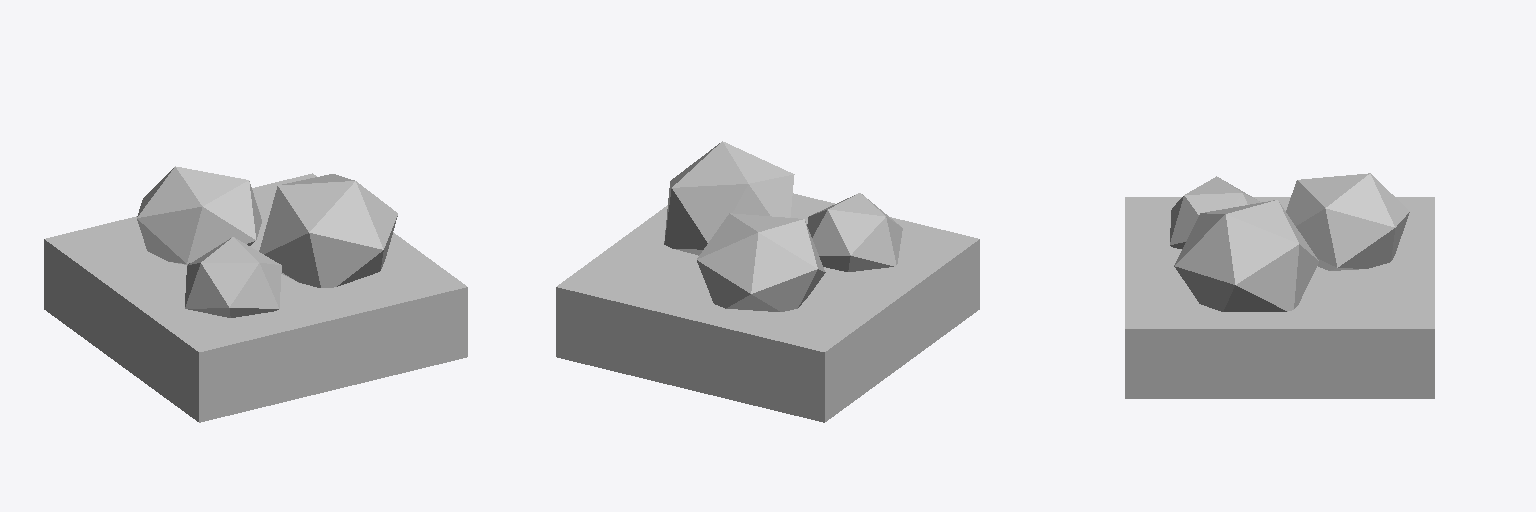
The model's file is PEBBLES.obj.
3 renders of one model, left to right at view 1: azimuth 30°, elevation 25°; view 2: azimuth 150°, elevation 25°; view 3: azimuth 270°, elevation 25°, orthographic.
Parts seen in each view (by area): view 1: PEBBLES; view 2: PEBBLES; view 3: PEBBLES.
Boxes of the visible parts, box(x1,y1,x2,y2) form: PEBBLES: box(44, 166, 467, 422); PEBBLES: box(556, 141, 979, 422); PEBBLES: box(1125, 173, 1434, 398).
Bounding box in the file's own units: 2 × 1.1 × 2.